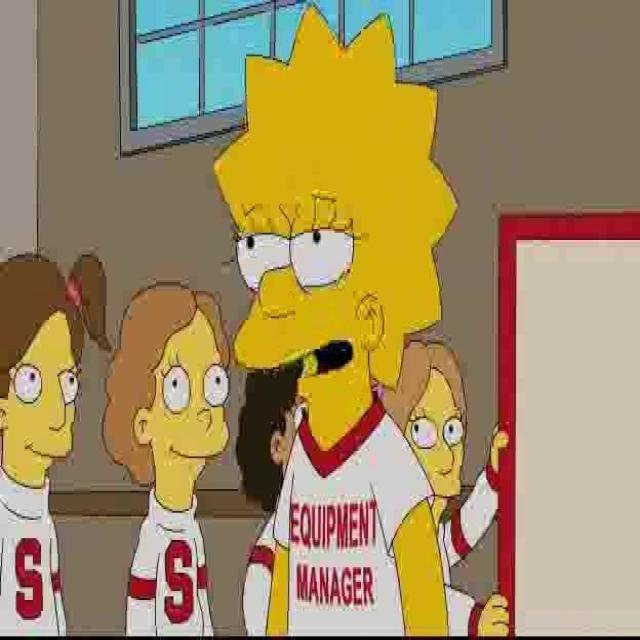Lisa Simpson: (213, 3, 460, 481)
